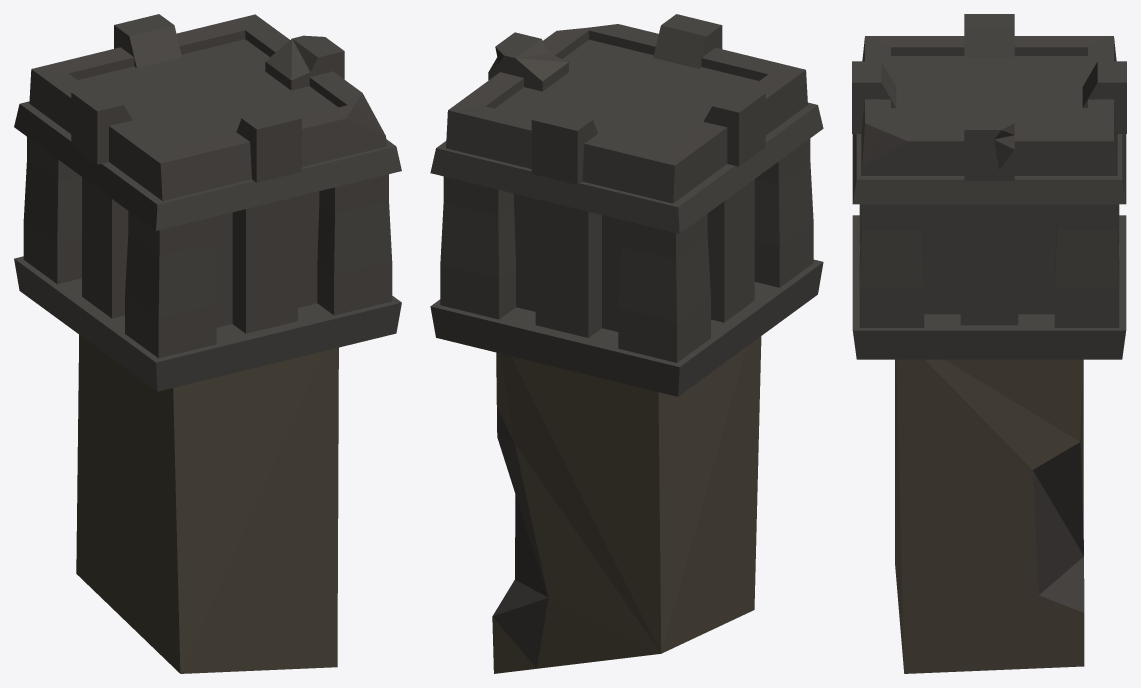
Rendered from Pillar_1E_LOD.fbx.
The picture shows the model from 3 angles, left to right: view 1: azimuth 30°, elevation 25°; view 2: azimuth 150°, elevation 25°; view 3: azimuth 270°, elevation 25°; orthographic projection. The views are drawn at different scales.
Visible parts, largest first — view 1: polySurface1302; view 2: polySurface1302; view 3: polySurface1302.
Part boxes in pixels (box(x1,y1,x2,y2)): polySurface1302: box(14, 14, 401, 673); polySurface1302: box(430, 14, 823, 673); polySurface1302: box(852, 14, 1126, 673).
Bounding box in the file's own units: 1.83 × 4.13 × 1.83.
